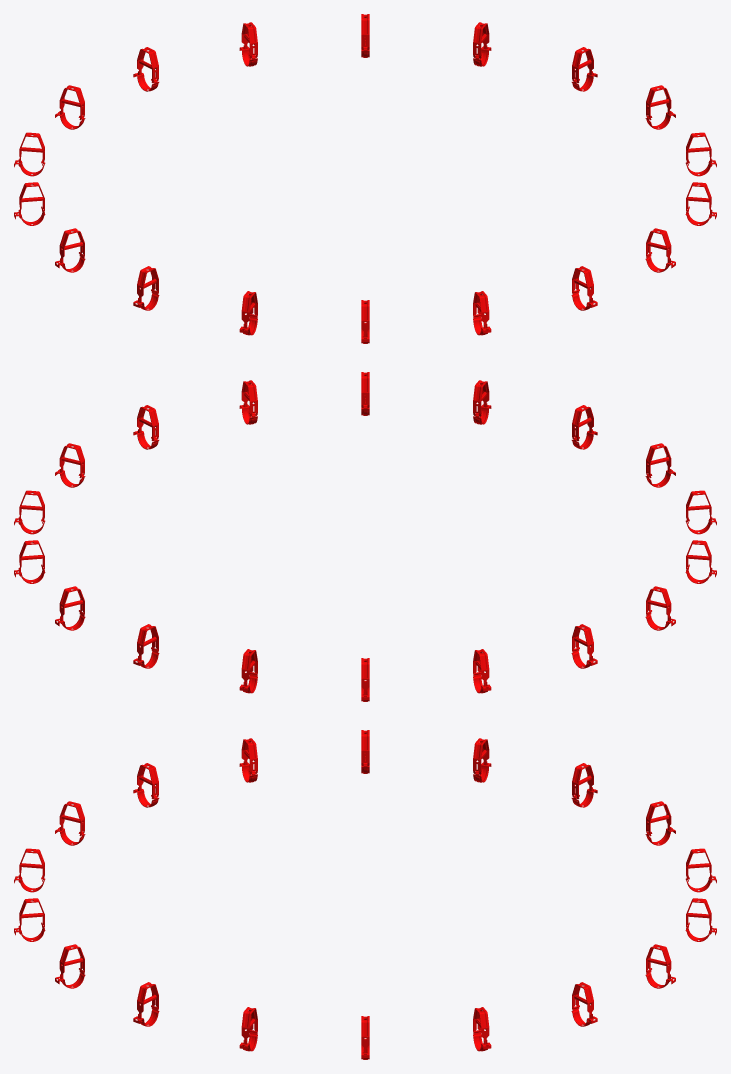
File: Elements_ImportMeshElement.glb
The picture shows the model from 3 angles, top to bottom: view 1: azimuth 30°, elevation 25°; view 2: azimuth 150°, elevation 25°; view 3: azimuth 270°, elevation 25°; orthographic projection.
Parts seen in each view (by area): view 1: b8a0e16d-838e-447e-8ce8-f4fe1d507552_mesh (×12); view 2: b8a0e16d-838e-447e-8ce8-f4fe1d507552_mesh (×12); view 3: b8a0e16d-838e-447e-8ce8-f4fe1d507552_mesh (×12).
Boxes of the visible parts, x1,y1,x2,y2 form: b8a0e16d-838e-447e-8ce8-f4fe1d507552_mesh (×12): (55,22,675,335); b8a0e16d-838e-447e-8ce8-f4fe1d507552_mesh (×12): (55,380,675,693); b8a0e16d-838e-447e-8ce8-f4fe1d507552_mesh (×12): (55,738,675,1051).
Bounding box in the file's own units: 2.1 × 0.1314 × 2.08.
